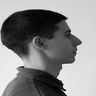ear: (30, 34, 51, 54)
